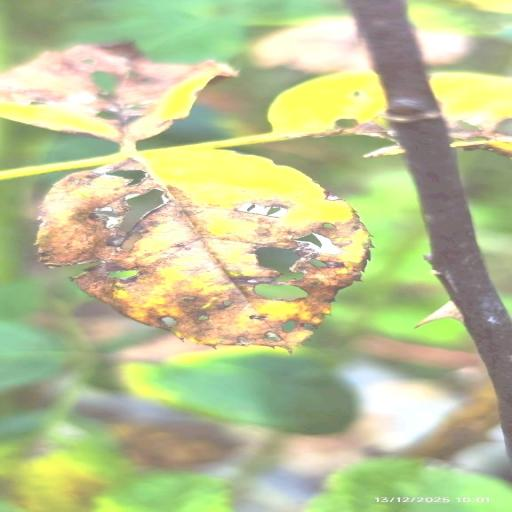thrip: (37, 150, 370, 349), (0, 43, 234, 143), (268, 71, 386, 132), (430, 72, 511, 131)
